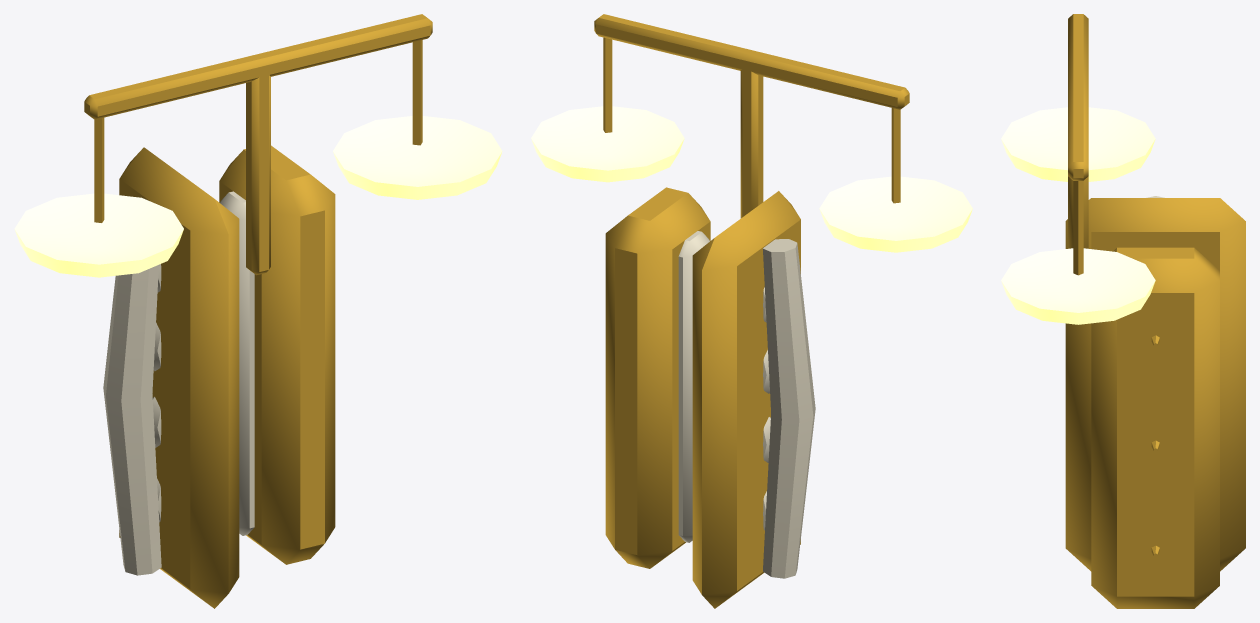
Rendered from fa_penance.glb.
3 views of the same model, side by side, from view 1: azimuth 30°, elevation 25°; view 2: azimuth 150°, elevation 25°; view 3: azimuth 270°, elevation 25° (orthographic). The views are drawn at different scales.
Parts seen in each view (by area): view 1: fa_penance; view 2: fa_penance; view 3: fa_penance.
Boxes of the visible parts, x1=… form: fa_penance: x1=14, y1=14, x2=502, y2=608; fa_penance: x1=531, y1=14, x2=972, y2=608; fa_penance: x1=1001, y1=14, x2=1245, y2=608.
Bounding box in the file's own units: 0.19 × 0.214 × 0.095.
